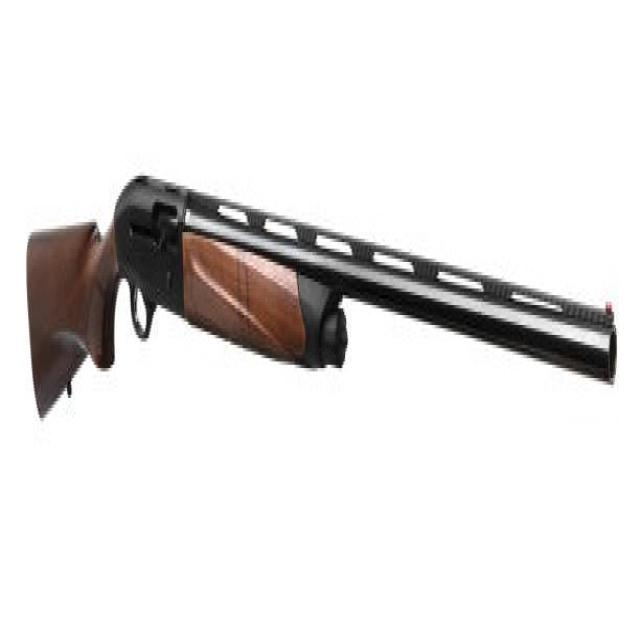rifle: (17, 159, 622, 459)
